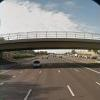Bridge: (5, 24, 97, 56)
